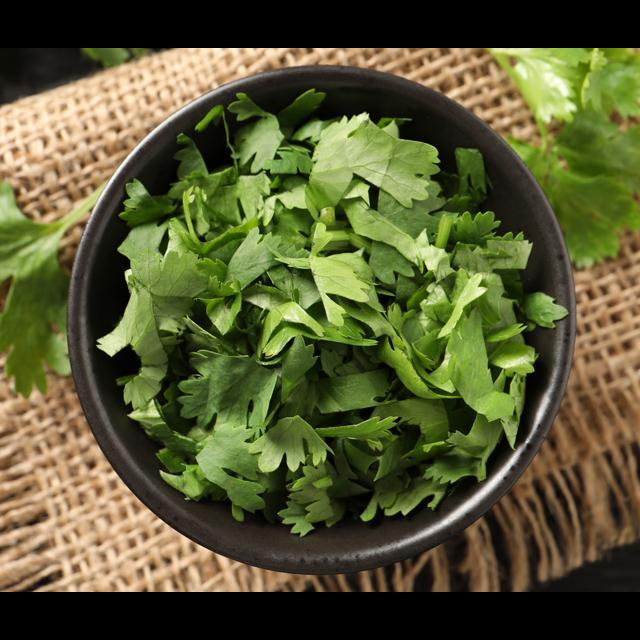cilantro: (94, 86, 568, 536), (485, 48, 640, 269), (0, 162, 107, 398)
